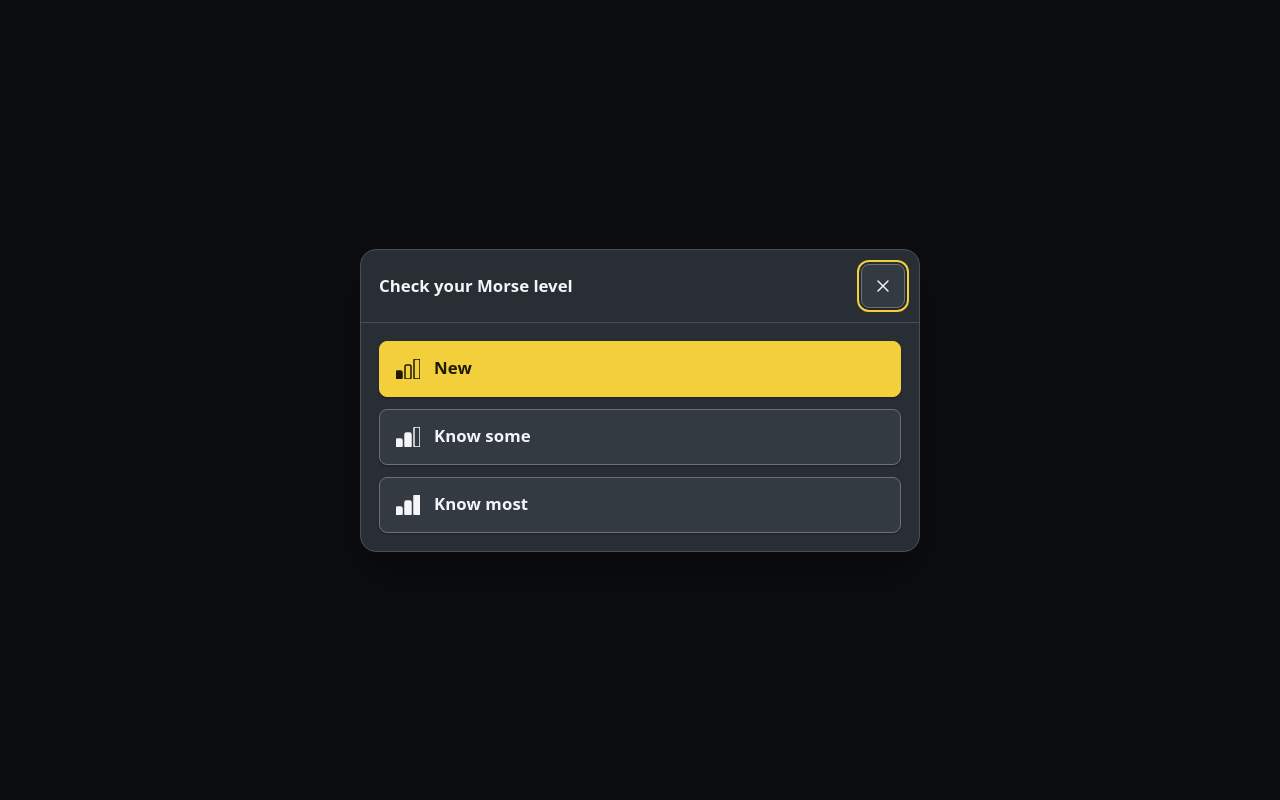
Test: every Morse session shares the frame › frames active placement
What coordinates should you click on to do the following:
click the button with aria-label "Know some Morse"
I would click on:
 (482, 436)
Its box is [379,408,901,464].
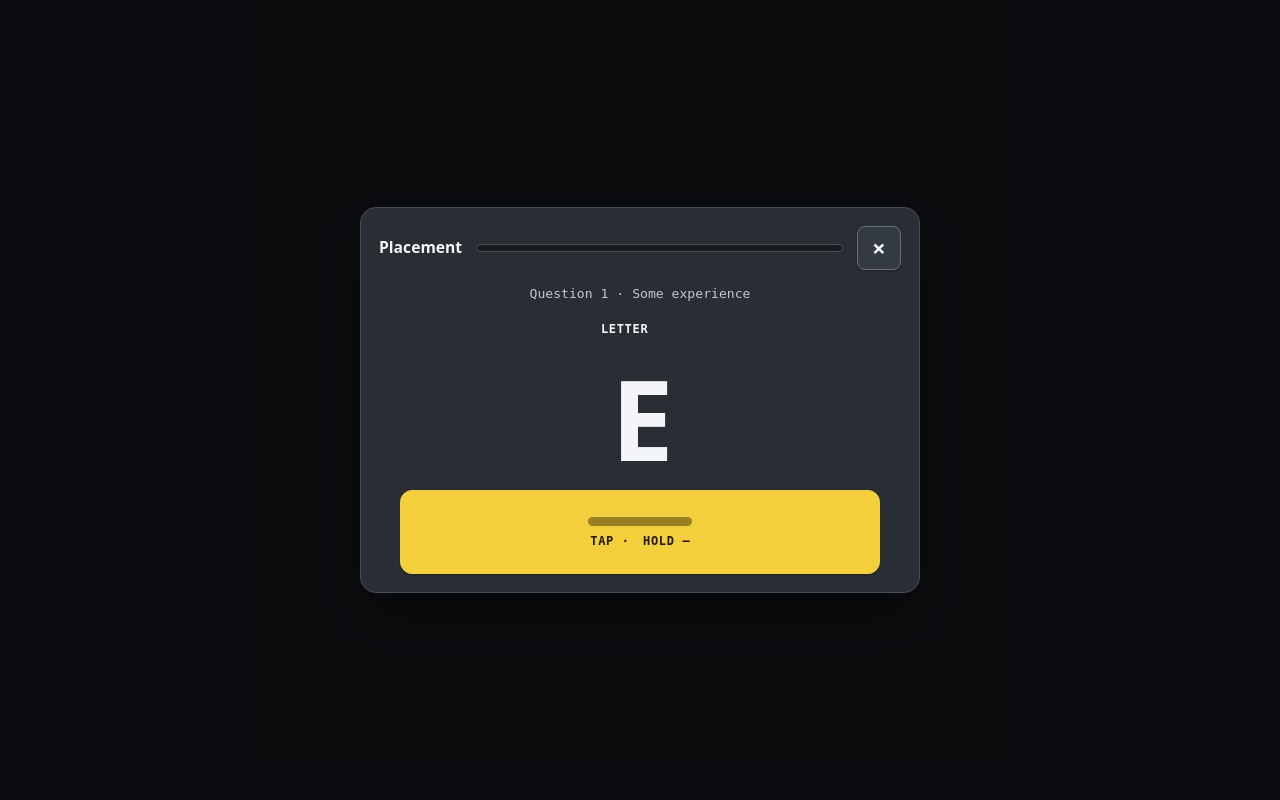
Expected: the element that starts with "Placement" is shown, [379,226,901,574]
